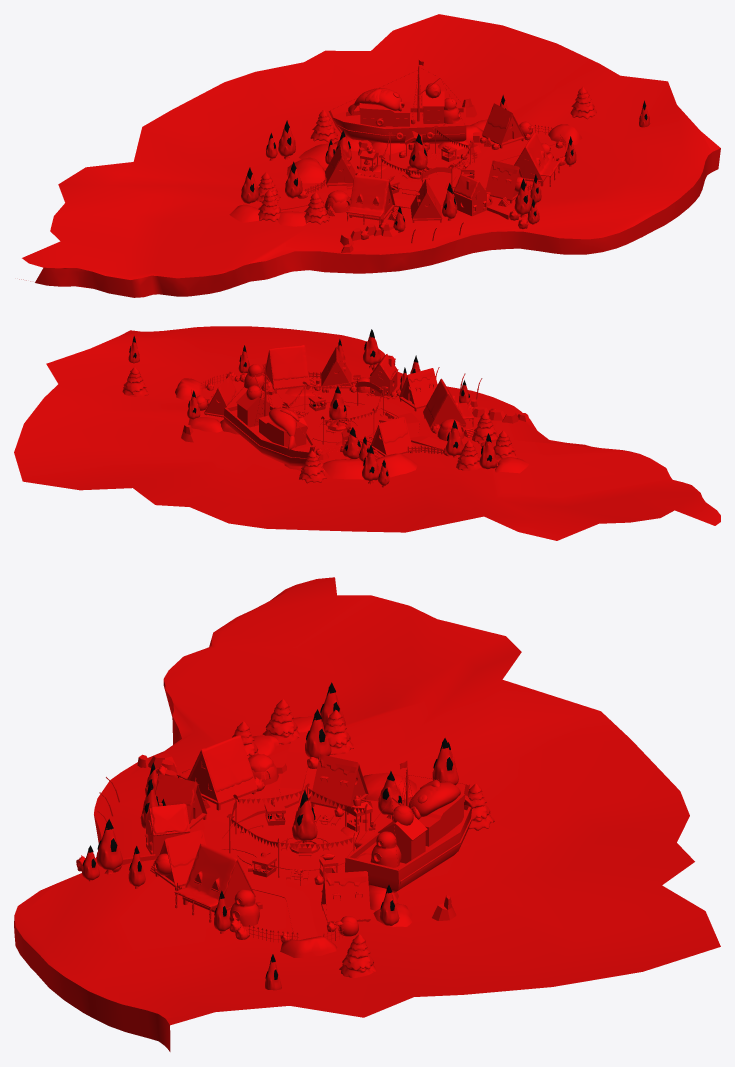
Rendered from Individual_SalmonSettlement_01.glb.
3 renders of one model, top to bottom at view 1: azimuth 30°, elevation 25°; view 2: azimuth 150°, elevation 25°; view 3: azimuth 270°, elevation 25°, orthographic. The views are drawn at different scales.
Visible parts, largest first — view 1: pasted__pasted__Berg, pasted__Ship_node, pasted__Object_Road1, pasted__Building_TriangleHouse, pasted__Building_TriangleHouse5, pasted__Building_TriangleHouse6, pasted__Building_TriangleHouse3, pasted__Building_CoffeeShop, pasted__Building_TriangleHouse2, pasted__Building_TriangleHouse4, pasted__Fish, pasted__SnowPatch11 (+6 smaller); view 2: pasted__pasted__Berg, pasted__Ship_node, pasted__Object_Road1, pasted__Building_TriangleHouse5, pasted__Building_TriangleHouse, pasted__Building_TriangleHouse4, pasted__Building_TriangleHouse2, pasted__Building_TriangleHouse3, pasted__Building_CoffeeShop, pasted__Building_TriangleHouse6, pasted__SnowPatch10, pasted__Fish (+16 smaller); view 3: pasted__pasted__Berg, pasted__Object_Road1, pasted__Ship_node, pasted__Building_TriangleHouse, pasted__Building_TriangleHouse5, pasted__Building_TriangleHouse4, pasted__Building_TriangleHouse6, pasted__Building_CoffeeShop, pasted__Building_TriangleHouse3, pasted__Building_TriangleHouse2, pasted__Fish, pasted__pasted__Foliage_BigFir5 (+11 smaller).
Boxes of the visible parts, x1,y1,x2,y2 form: pasted__pasted__Berg: (19, 14, 720, 297); pasted__Ship_node: (328, 60, 466, 143); pasted__Object_Road1: (253, 137, 556, 210); pasted__Building_TriangleHouse: (346, 175, 395, 224); pasted__Building_TriangleHouse5: (514, 132, 560, 186); pasted__Building_TriangleHouse6: (482, 103, 524, 148); pasted__Building_TriangleHouse3: (485, 160, 522, 203); pasted__Building_CoffeeShop: (453, 174, 487, 216); pasted__Building_TriangleHouse2: (410, 179, 442, 222); pasted__Building_TriangleHouse4: (325, 144, 355, 187); pasted__Fish: (348, 88, 404, 115); pasted__SnowPatch11: (286, 157, 325, 183); pasted__pasted__Berg: (14, 326, 720, 540); pasted__Ship_node: (224, 363, 315, 466); pasted__Object_Road1: (196, 391, 499, 467); pasted__Building_TriangleHouse5: (263, 345, 309, 393); pasted__Building_TriangleHouse: (423, 378, 474, 429); pasted__Building_TriangleHouse4: (371, 417, 412, 456); pasted__Building_TriangleHouse2: (399, 368, 437, 411); pasted__Building_TriangleHouse3: (321, 347, 351, 390); pasted__Building_CoffeeShop: (368, 354, 398, 396); pasted__Building_TriangleHouse6: (204, 376, 239, 417); pasted__SnowPatch10: (322, 459, 363, 479); pasted__Fish: (269, 406, 299, 449); pasted__pasted__Berg: (14, 577, 720, 1051); pasted__Object_Road1: (203, 731, 355, 940); pasted__Ship_node: (345, 760, 471, 892); pasted__Building_TriangleHouse: (177, 735, 257, 810); pasted__Building_TriangleHouse5: (174, 843, 255, 922); pasted__Building_TriangleHouse4: (310, 754, 368, 814); pasted__Building_TriangleHouse6: (321, 871, 370, 924); pasted__Building_CoffeeShop: (145, 803, 190, 858); pasted__Building_TriangleHouse3: (154, 830, 206, 890); pasted__Building_TriangleHouse2: (154, 774, 207, 828); pasted__Fish: (408, 780, 473, 819); pasted__pasted__Foliage_BigFir5: (339, 934, 375, 977).
Size of the model in its own units: 124 by 18.27 by 81.03.
